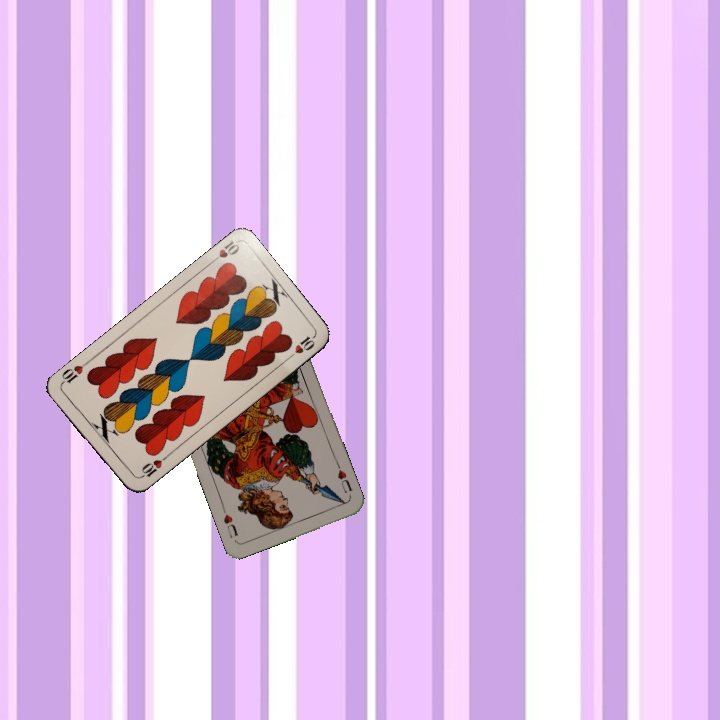H10: (205, 236, 242, 267), (135, 452, 170, 481)
HU: (333, 461, 355, 496)
